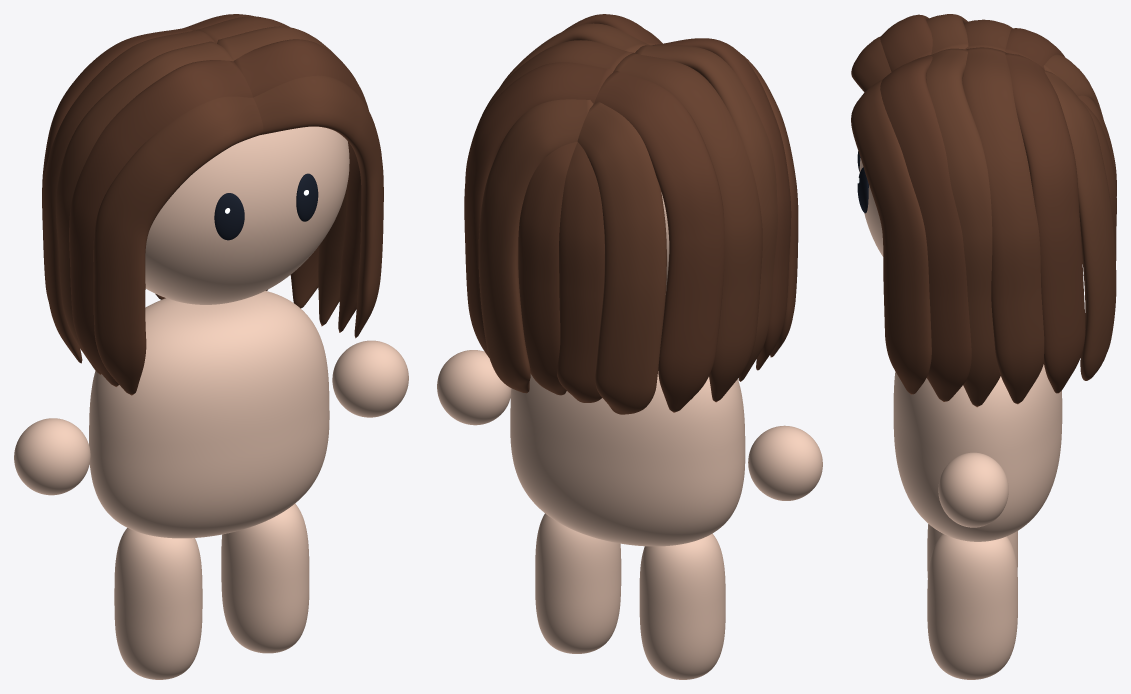
Rendered from Feminine-skin0.glb.
3 renders of one model, left to right at view 1: azimuth 30°, elevation 25°; view 2: azimuth 150°, elevation 25°; view 3: azimuth 270°, elevation 25°, orthographic. The views are drawn at different scales.
Visible parts, largest first — view 1: Skin / compact torso with skirt outline, Skin / soft oval head, Hair / Straight -1 0, Hair / Straight -1 1, Skin / leg -1, Skin / leg 1, Hair / Straight 1 0, Hair / Straight 1 1, Hair / Straight -1 2, Hair / Straight -1 3, Skin / hand 1, Skin / hand -1 (+5 smaller); view 2: Skin / compact torso with skirt outline, Hair / Straight -1 4, Hair / Straight -1 5, Hair / Straight -1 3, Hair / Straight 1 5, Skin / leg -1, Hair / Straight -1 6, Skin / leg 1, Hair / Straight 1 6, Hair / Straight 1 4, Hair / Straight -1 2, Hair / Straight -1 1 (+6 smaller); view 3: Skin / compact torso with skirt outline, Hair / Straight 1 3, Hair / Straight 1 4, Hair / Straight 1 1, Hair / Straight 1 0, Skin / leg 1, Hair / Straight 1 2, Hair / Straight 1 5, Skin / hand 1, Hair / Straight -1 1, Hair / Straight -1 0, Hair / Straight -1 4 (+7 smaller).
Part boxes in pixels (x1,y1,x2,y2): Skin / compact torso with skirt outline: (89,291,329,538); Skin / soft oval head: (145,126,349,304); Hair / Straight -1 0: (93,96,263,395); Hair / Straight -1 1: (69,60,252,386); Skin / leg -1: (114,528,202,679); Skin / leg 1: (221,503,309,653); Hair / Straight 1 0: (253,75,383,338); Hair / Straight 1 1: (233,39,368,332); Hair / Straight -1 2: (56,41,233,374); Hair / Straight -1 3: (42,30,214,363); Skin / hand 1: (332,340,408,417); Skin / hand -1: (14,418,90,495); Skin / compact torso with skirt outline: (510,371,745,546); Hair / Straight -1 4: (594,71,724,412); Hair / Straight -1 5: (577,101,666,414); Hair / Straight -1 3: (613,53,762,402); Hair / Straight 1 5: (478,99,593,393); Skin / leg -1: (639,533,725,679); Hair / Straight -1 6: (557,142,604,402); Skin / leg 1: (535,513,621,653); Hair / Straight 1 6: (518,141,577,395); Hair / Straight 1 4: (464,62,612,357); Hair / Straight -1 2: (635,45,777,381); Hair / Straight -1 1: (653,38,791,370); Skin / compact torso with skirt outline: (893,364,1062,541); Hair / Straight 1 3: (962,47,1044,404); Hair / Straight 1 4: (1005,53,1085,393); Hair / Straight 1 1: (880,55,971,401); Hair / Straight 1 0: (851,79,931,394); Skin / leg 1: (927,534,1017,679); Hair / Straight 1 2: (926,48,1000,407); Hair / Straight 1 5: (1044,70,1116,380); Skin / hand 1: (938,452,1008,527); Hair / Straight -1 1: (880,14,932,71); Hair / Straight -1 0: (851,36,891,92); Hair / Straight -1 4: (1005,28,1082,263).
Size of the model in its own units: 1.49 by 2.31 by 0.9206.
